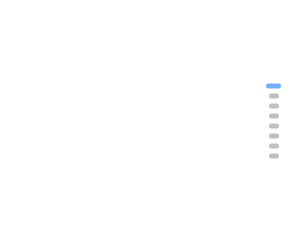
it: ChatTimeline › hides the panel when leaving the timeline
This screenshot has width=293, height=251.
Hover over the navigation bar with class "chat-timeline" at (274, 121), box [266,84,281,158]
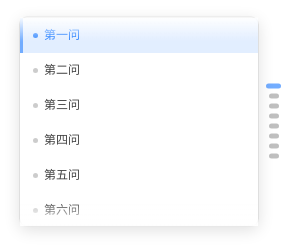
Hover over the 1st button with class "chat-timeline-bar" at (274, 86), box [266,84,281,88]
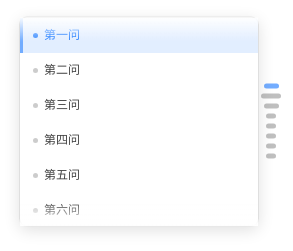
Expected: the element with class "chat-timeline-panel" is shown
Move the pointer off the navigation bar with class "chat-timeline", box [259,76,283,166]
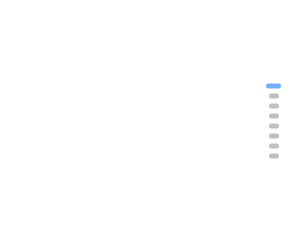
Expected: the element with class "chat-timeline-panel" is gone
